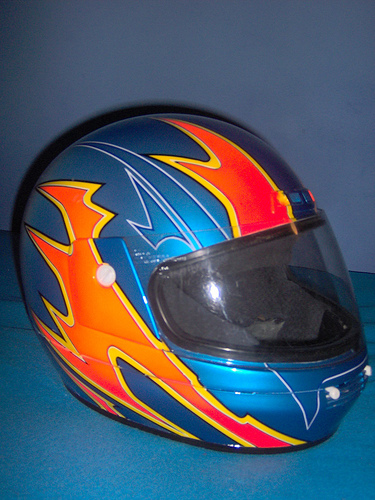helmet: (13, 120, 361, 447)
